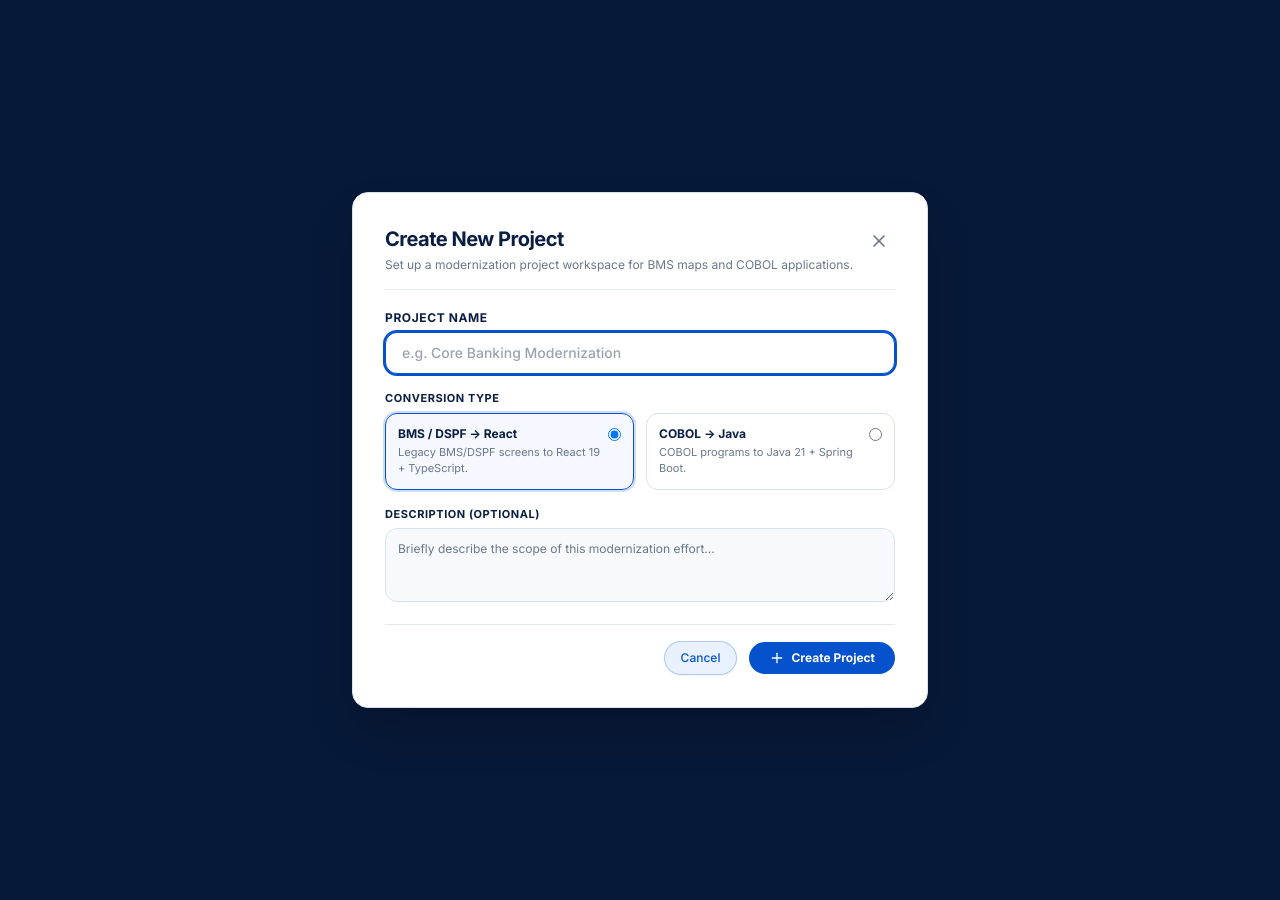
Test: CreateProjectModal - conversion type selection › surfaces detailed backend validation errors from ApiError
Type "ab" into the field with placeholder "e.g. Core Banking Modernization" at (640, 353), box [385,332,895,374]
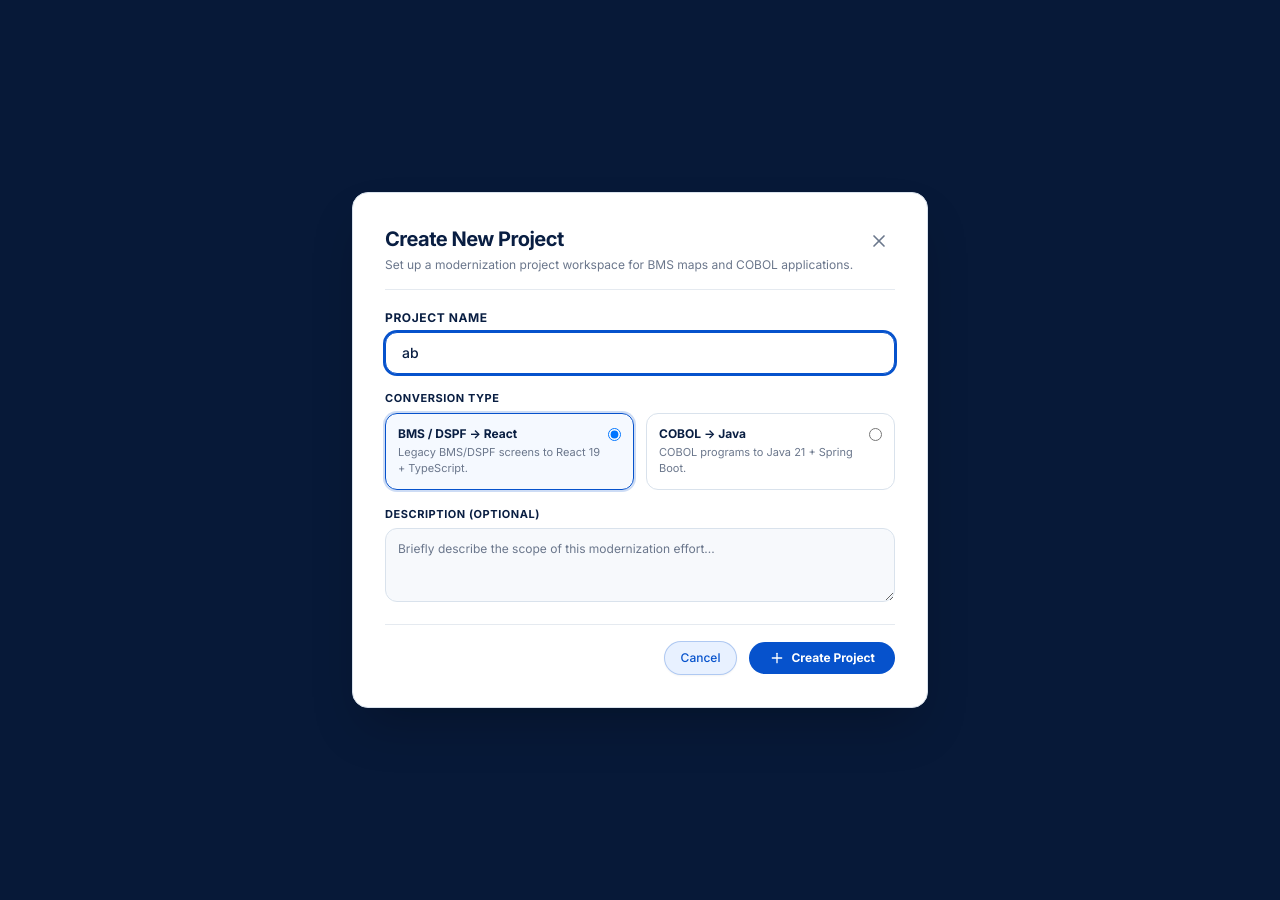
Click the button "Create Project" at (822, 658), box [749,642,895,674]
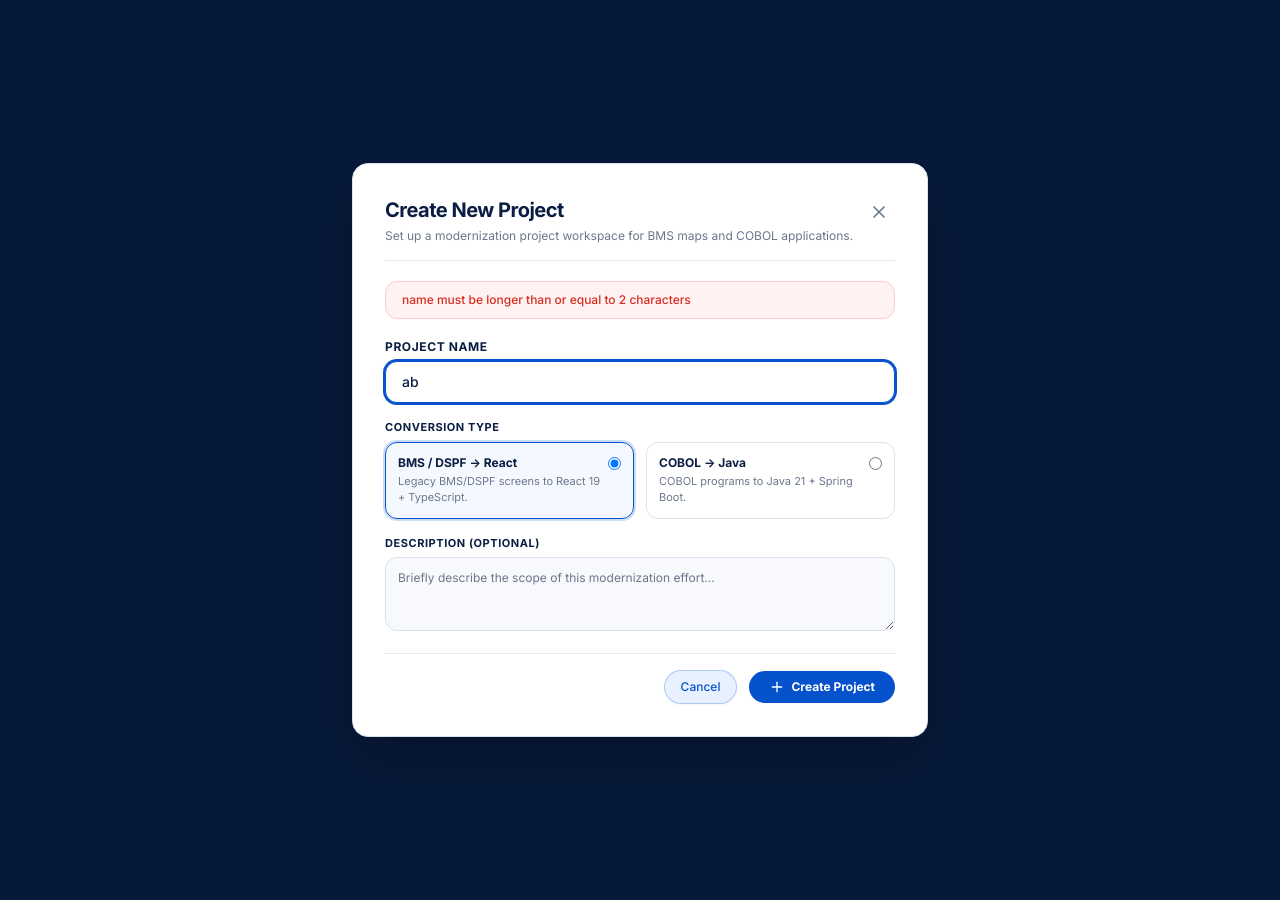
expect the text "name must be longer than or equal to 2 characters" is shown: met, box [385,281,895,319]
